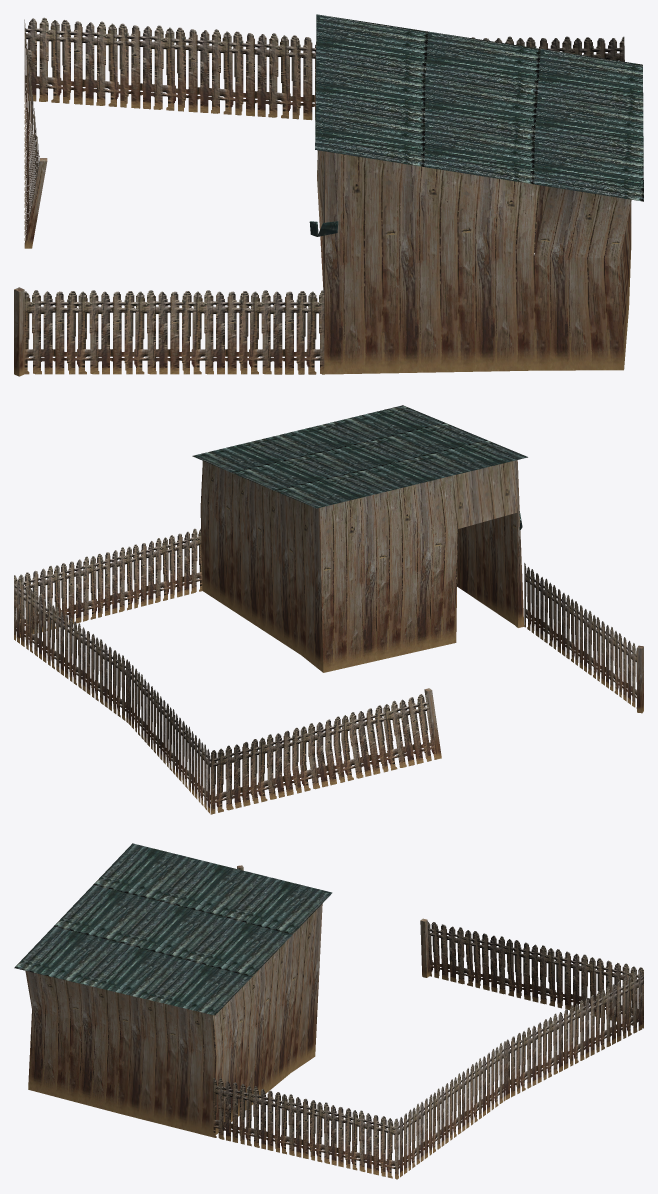
The model's file is Mis1_GoatPen.glb.
3 renders of one model, top to bottom at view 1: azimuth 30°, elevation 25°; view 2: azimuth 150°, elevation 25°; view 3: azimuth 270°, elevation 25°, orthographic. The views are drawn at different scales.
Parts seen in each view (by area): view 1: MIS1_GOATPEN; view 2: MIS1_GOATPEN; view 3: MIS1_GOATPEN.
Part boxes in pixels (x1,y1,x2,y2): MIS1_GOATPEN: (14, 14, 643, 376); MIS1_GOATPEN: (14, 405, 643, 814); MIS1_GOATPEN: (14, 843, 643, 1179).
Bounding box in the file's own units: 11.05 × 3.32 × 11.63.
3 materials, 3 textured.
